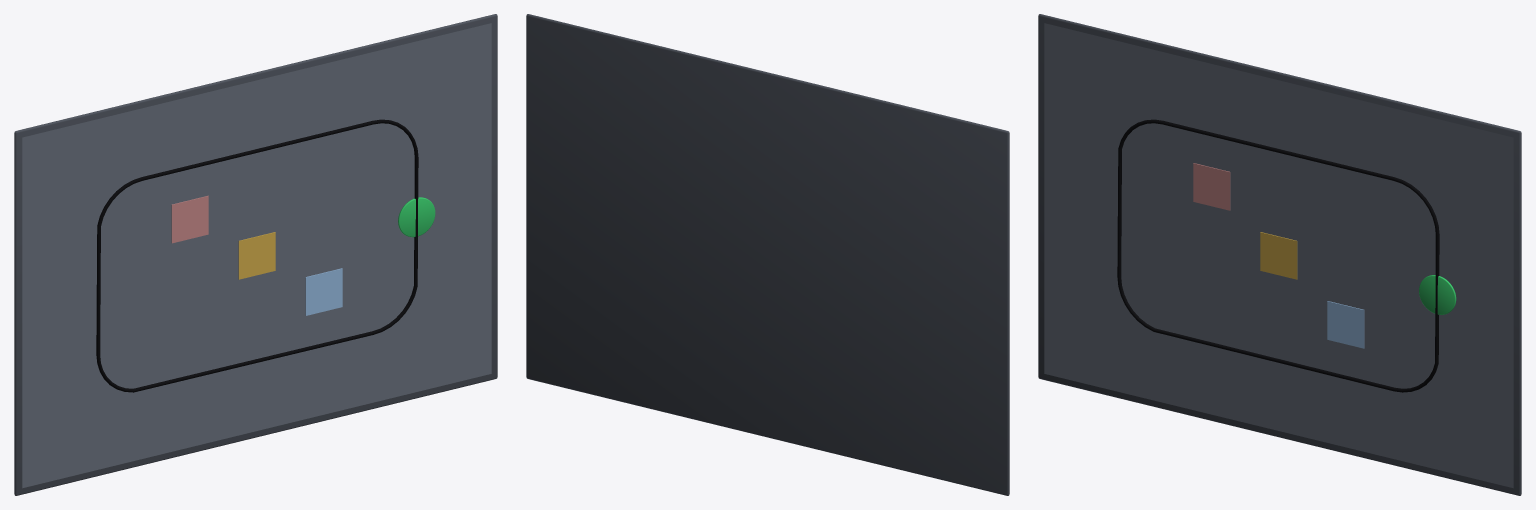
Rendered from carthabot_map_city.obj.
3 renders of one model, left to right at view 1: azimuth 30°, elevation 25°; view 2: azimuth 150°, elevation 25°; view 3: azimuth 330°, elevation 25°, orthographic.
Parts seen in each view (by area): view 1: PlayMat, MatRim, LineLoop, Block_0_0, Block_-4_3, Block_4_-3, StartPad; view 2: MatRim; view 3: PlayMat, MatRim, LineLoop, Block_0_0, Block_-4_3, Block_4_-3, StartPad.
Part boxes in pixels (box(x1,y1,x2,y2)): PlayMat: box(22, 23, 491, 488); MatRim: box(14, 14, 497, 495); LineLoop: box(96, 119, 418, 392); Block_0_0: box(238, 232, 275, 279); Block_-4_3: box(305, 268, 342, 315); Block_4_-3: box(171, 195, 208, 243); StartPad: box(398, 197, 435, 237); MatRim: box(526, 14, 1009, 495); PlayMat: box(1044, 23, 1513, 488); MatRim: box(1038, 14, 1521, 495); LineLoop: box(1117, 119, 1439, 392); Block_0_0: box(1260, 232, 1297, 279); Block_-4_3: box(1327, 301, 1364, 348); Block_4_-3: box(1193, 163, 1230, 210); StartPad: box(1419, 275, 1456, 314).
Bounding box in the file's own units: 28.8 × 20.8 × 0.3351.
